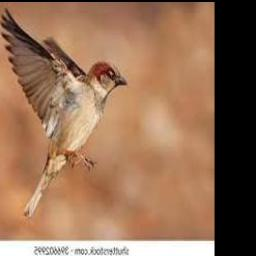Sparrow: (1, 7, 129, 217)
